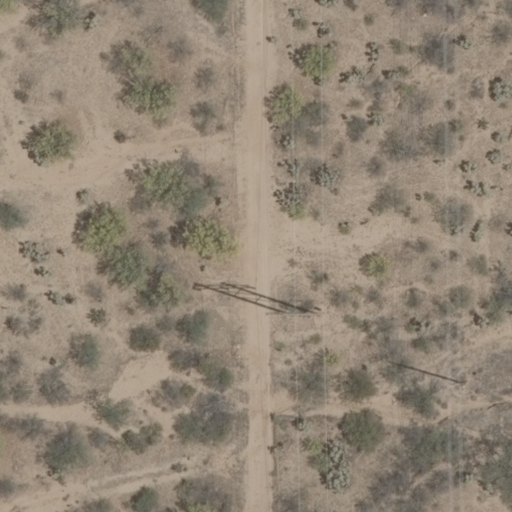DT: (259, 301, 335, 327), (442, 372, 479, 391)
